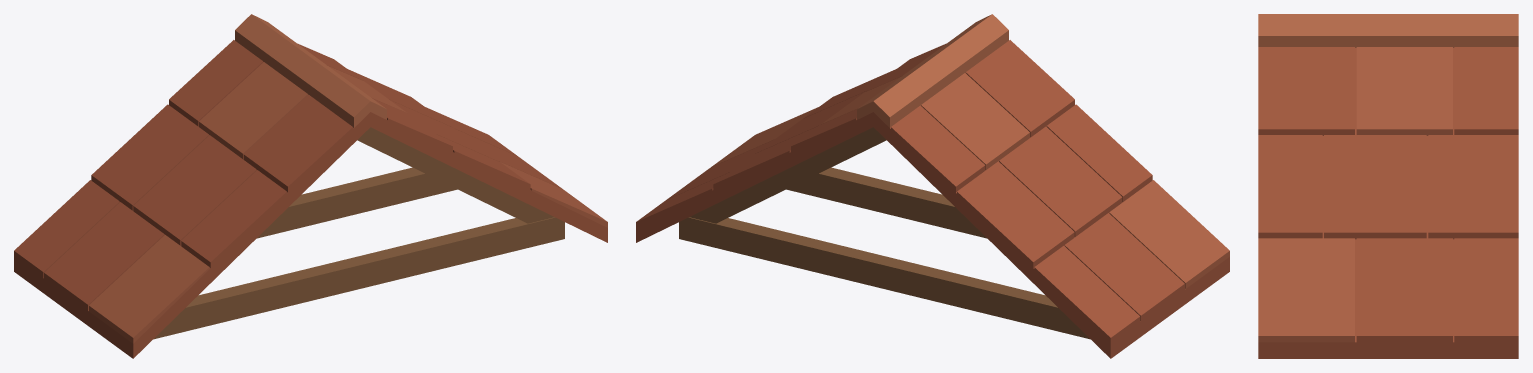
3 renders of one model, left to right at view 1: azimuth 30°, elevation 25°; view 2: azimuth 150°, elevation 25°; view 3: azimuth 270°, elevation 25°, orthographic. The views are drawn at different scales.
Visible parts, largest first — view 1: village-clay-roof-section-2m-01; view 2: village-clay-roof-section-2m-01; view 3: village-clay-roof-section-2m-01.
Boxes of the visible parts, left/top/right/bottom form: village-clay-roof-section-2m-01: left=14, top=14, right=607, bottom=358; village-clay-roof-section-2m-01: left=636, top=14, right=1229, bottom=358; village-clay-roof-section-2m-01: left=1258, top=14, right=1518, bottom=358.
Size of the model in its own units: 4.6 by 1.86 by 2.
